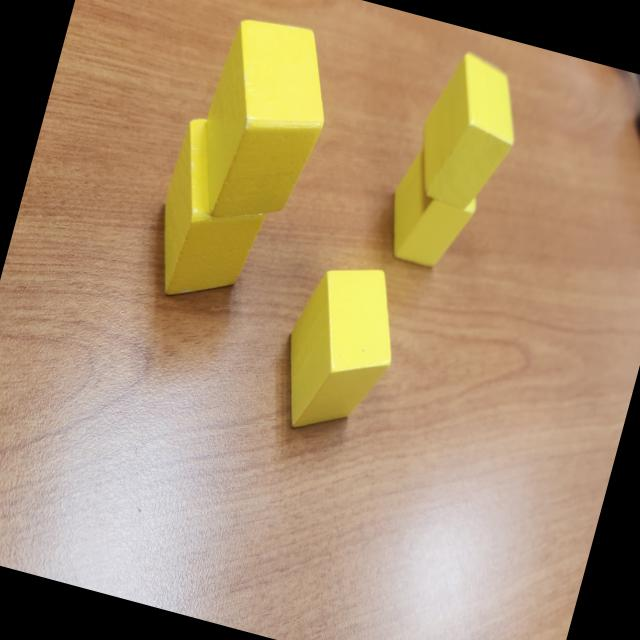yellow: (182, 9, 347, 238), (141, 106, 289, 315), (267, 252, 412, 446), (404, 45, 534, 218), (376, 144, 488, 276)
